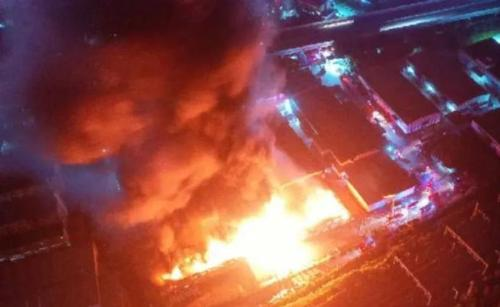fire: (170, 183, 355, 286)
smoke: (19, 10, 273, 172)
